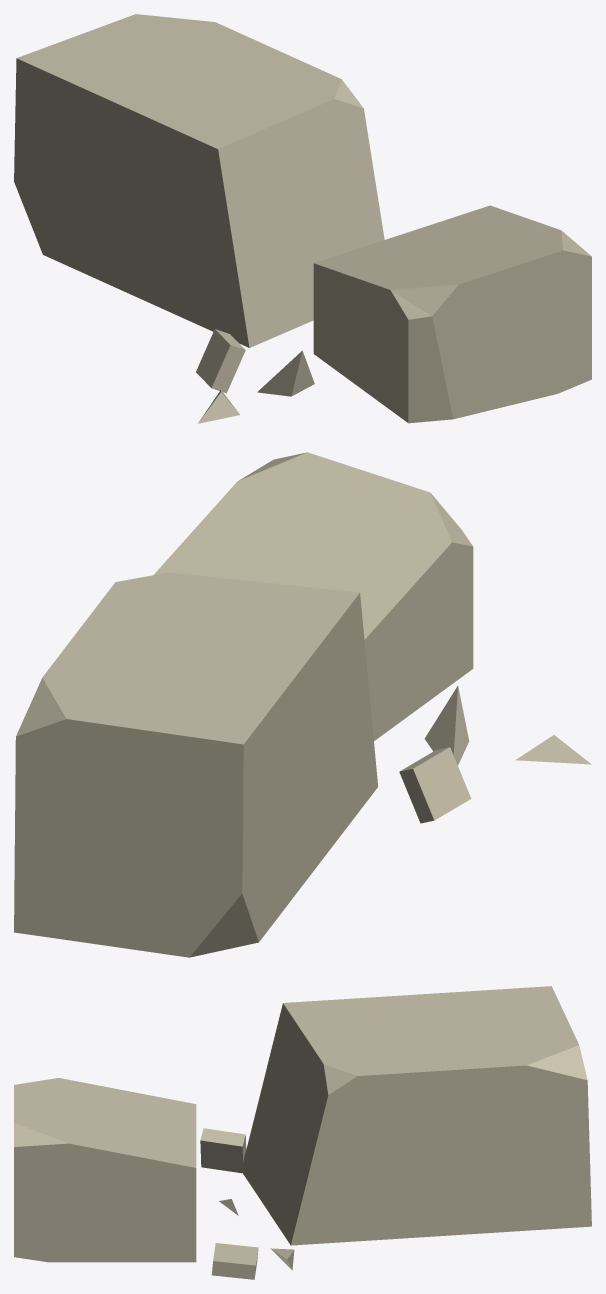
The model's file is Rock_Square_crk_m_02.fbx.
The picture shows the model from 3 angles, top to bottom: view 1: azimuth 30°, elevation 25°; view 2: azimuth 150°, elevation 25°; view 3: azimuth 270°, elevation 25°; orthographic projection. The views are drawn at different scales.
Visible parts, largest first — view 1: Rock_Square_crk_m_02; view 2: Rock_Square_crk_m_02; view 3: Rock_Square_crk_m_02.
Part boxes in pixels (x1,y1,x2,y2): Rock_Square_crk_m_02: (14, 14, 591, 423); Rock_Square_crk_m_02: (14, 452, 591, 957); Rock_Square_crk_m_02: (14, 986, 591, 1279).
Bounding box in the file's own units: 86.48 × 47.91 × 137.
